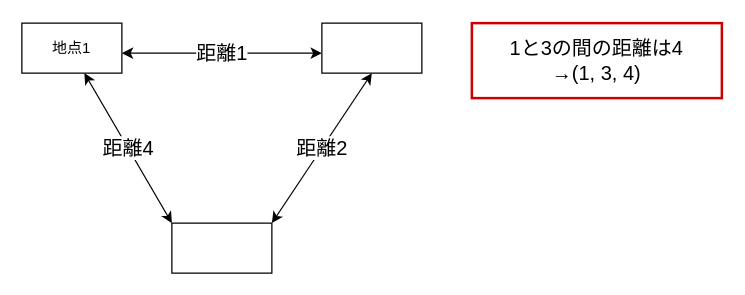
This 745x295 diagram has some shape labels left out. Each missing label, with the centre of its shape:
"地点2" goes at (x=371, y=47).
"地点3" goes at (x=221, y=247).
